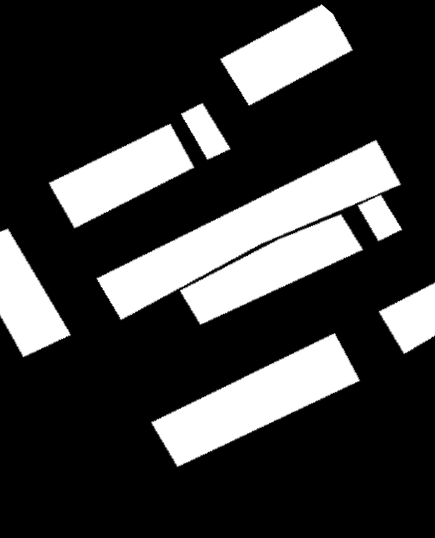parkingspot: (97, 140, 401, 320), (151, 333, 360, 467), (180, 214, 363, 325), (49, 124, 194, 228), (220, 4, 353, 106), (0, 229, 71, 357), (379, 283, 435, 354), (181, 103, 230, 160), (358, 195, 402, 241)
